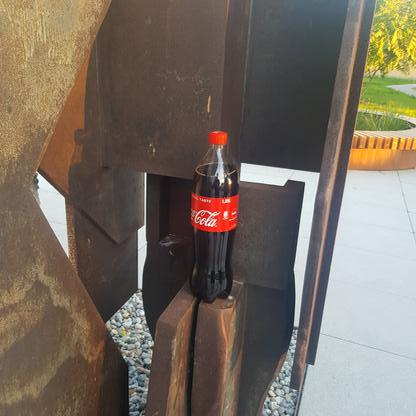coca-cola: (188, 129, 241, 307)
